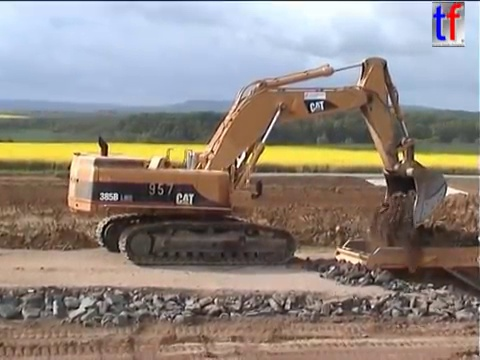excavator: (64, 54, 449, 269)
truck: (332, 230, 480, 330)
